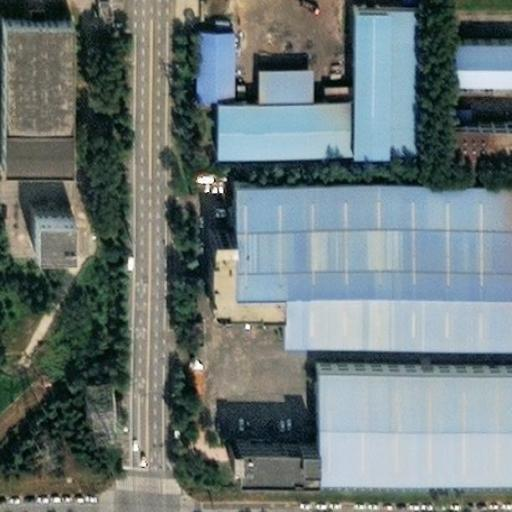building: (191, 170, 512, 335), (299, 359, 512, 469), (202, 54, 335, 146), (437, 29, 512, 74), (180, 18, 220, 87), (436, 112, 512, 145), (220, 439, 299, 469), (81, 377, 120, 437), (14, 206, 54, 243), (184, 356, 206, 399)
